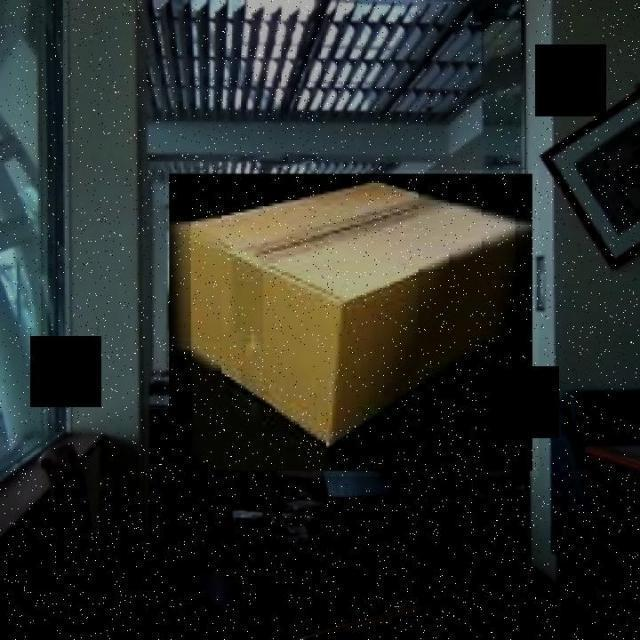box: (164, 169, 538, 476)
